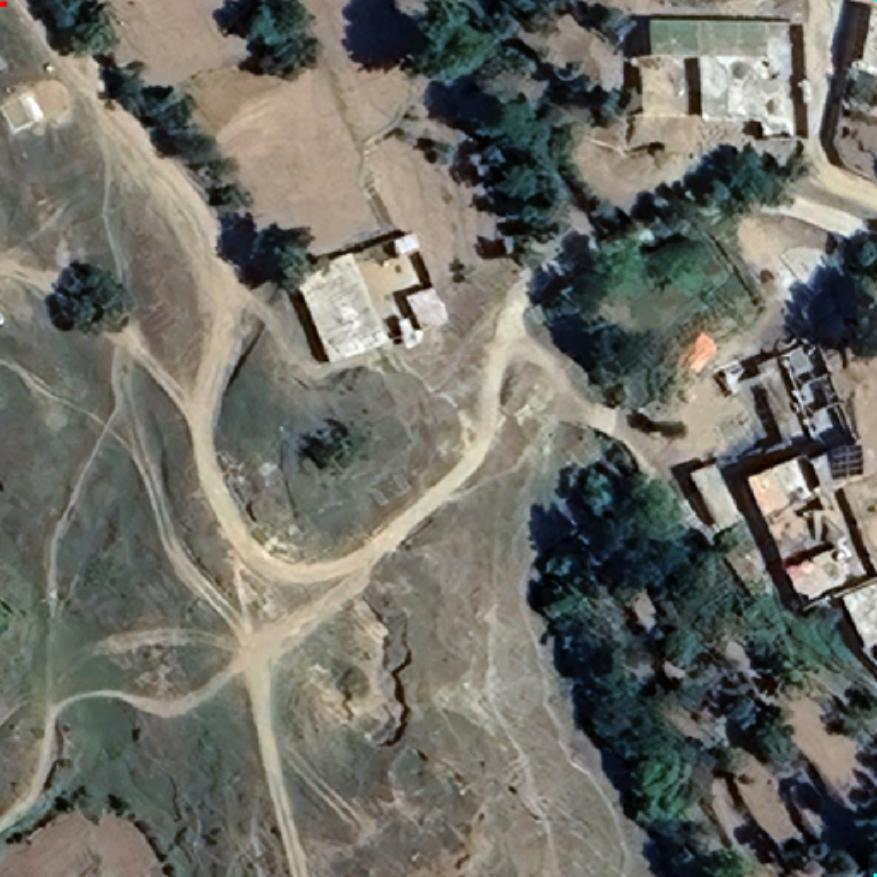Solarpanel: (828, 443, 864, 479)
